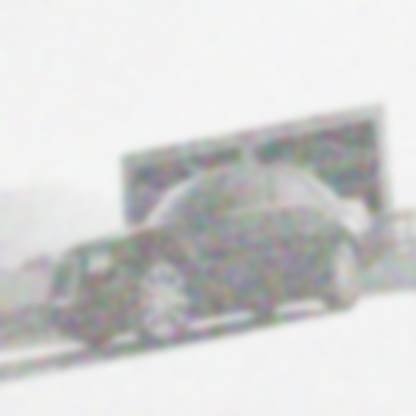Vehicle: (46, 164, 377, 346)
